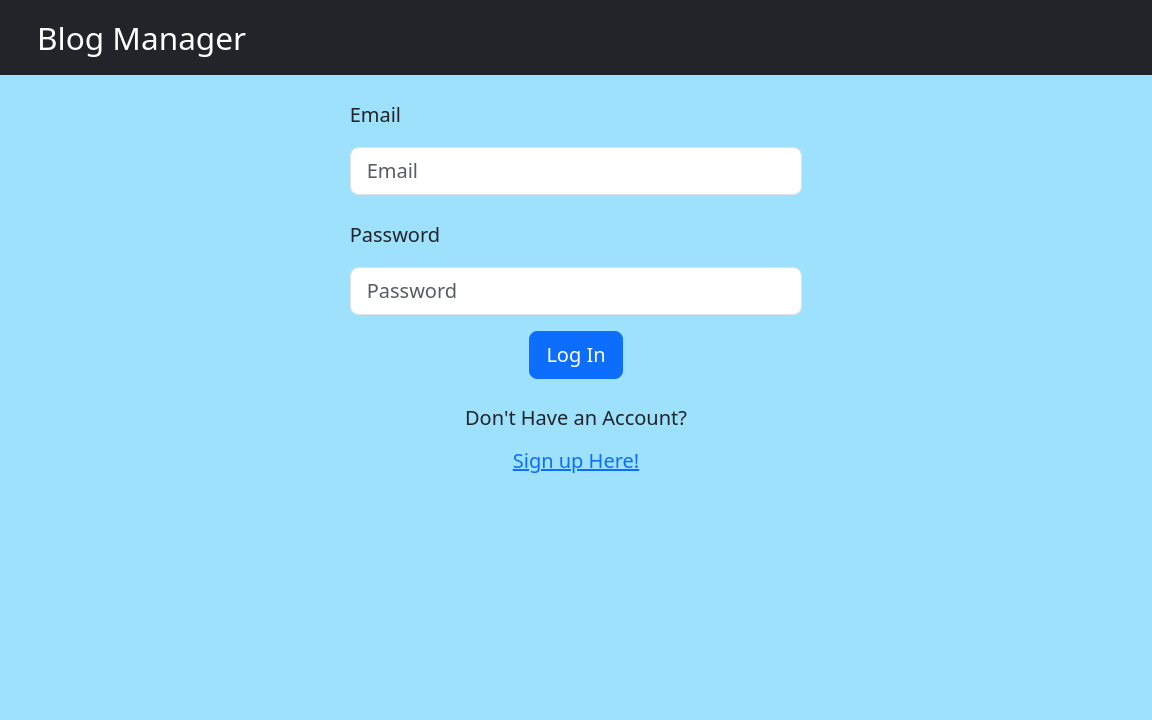
Error when logging in › shows error when login fails
Type "bad@example.com" into the field labelled "Email" at (576, 171), box [350,147,802,195]
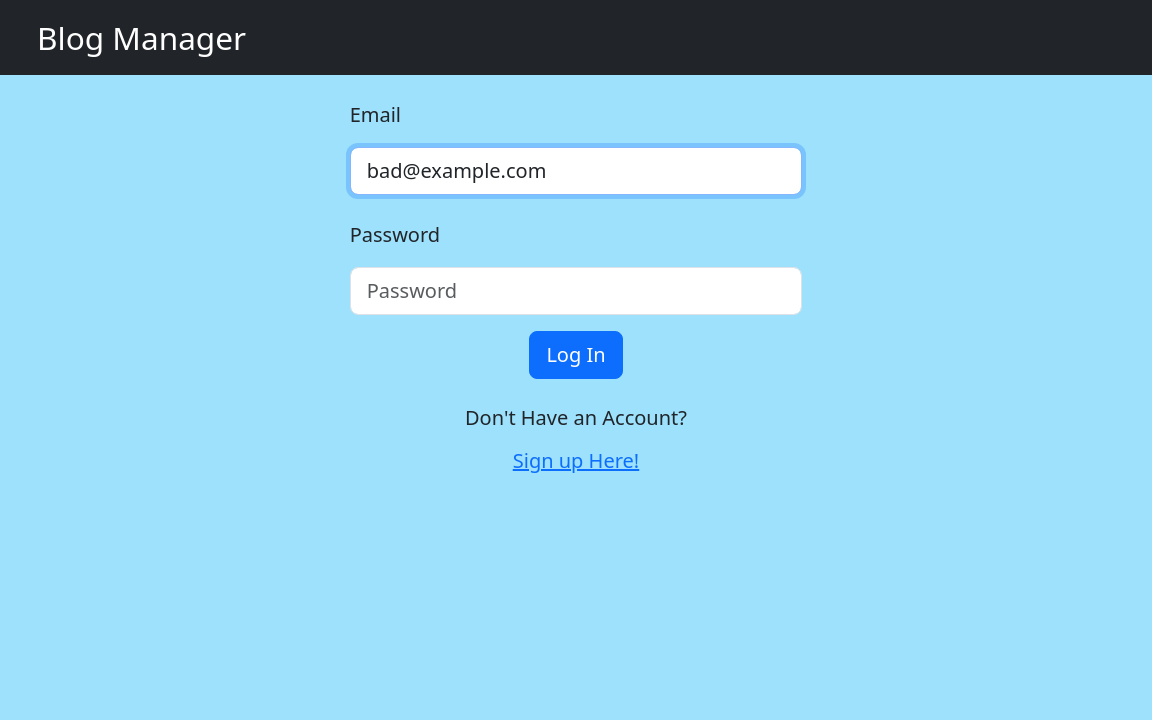
Type "wrongpass" into the password field labelled "Password" at (576, 291), box [350,267,802,315]
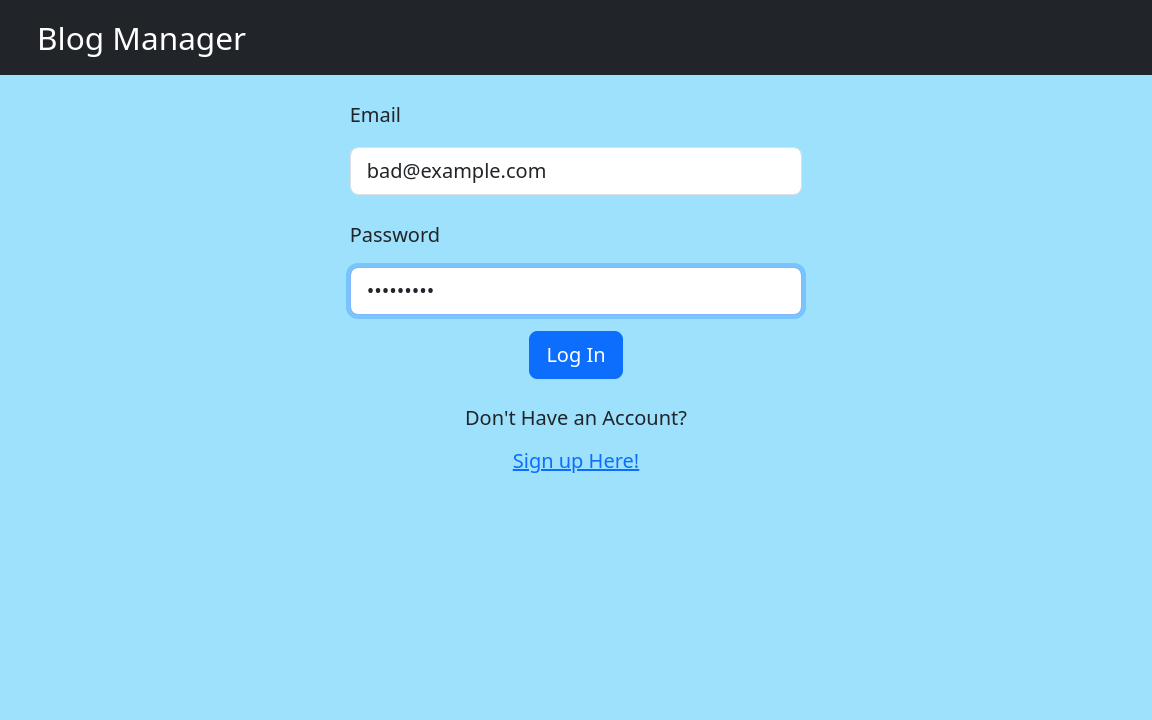
Click the button "Log In" at (576, 355), box [529,331,623,379]
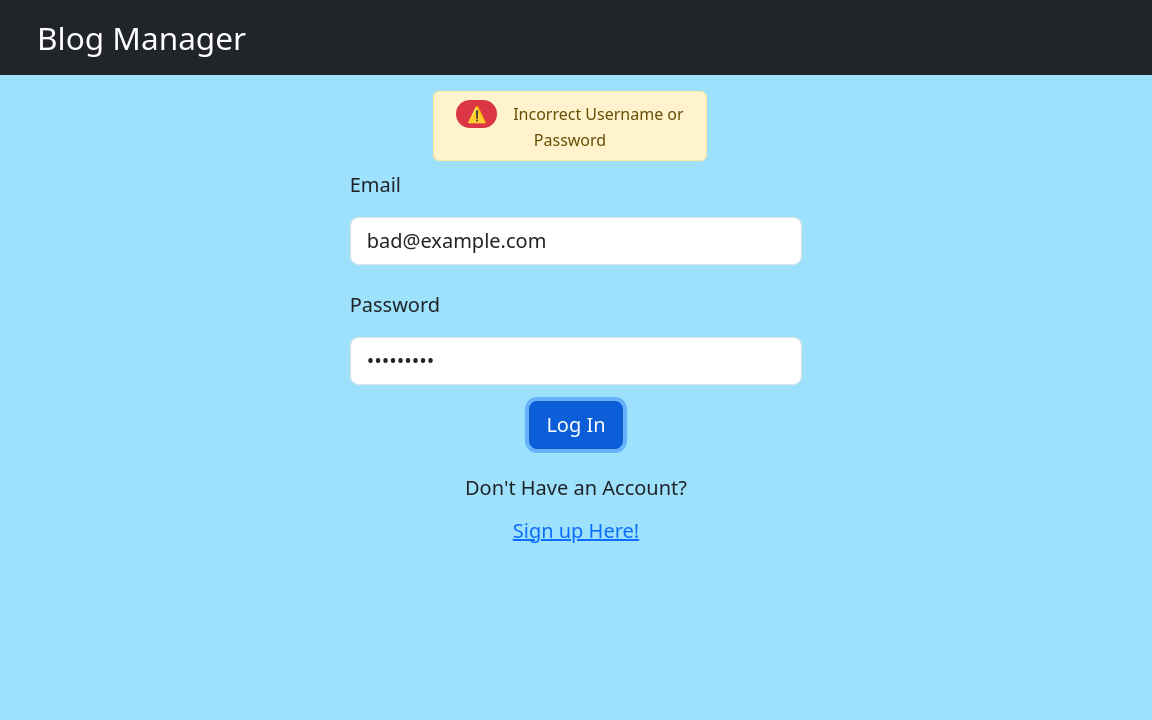
Result: the list item "⚠️ Incorrect Username or Password" is shown at [433,91,707,160]
